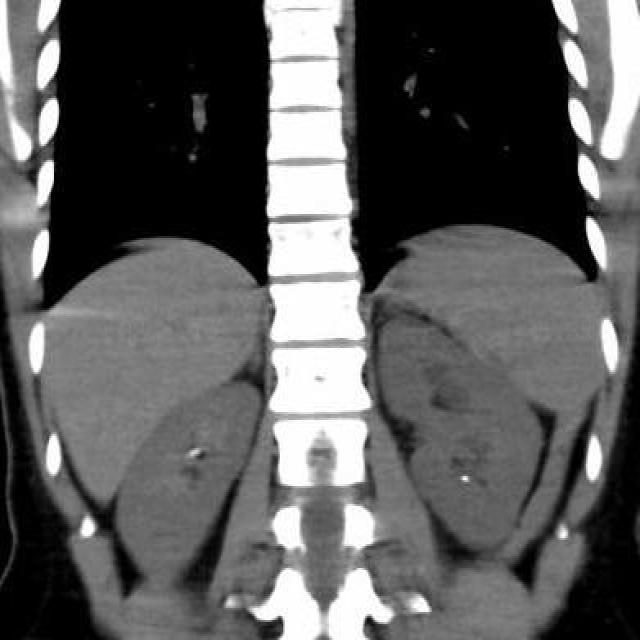Tas_Var: (183, 443, 202, 463), (457, 469, 474, 487)
